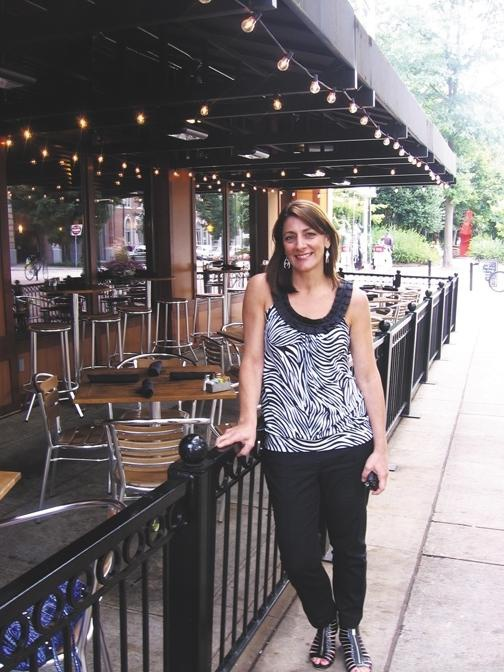non-vehicle: (23, 253, 48, 280), (482, 261, 503, 292)
